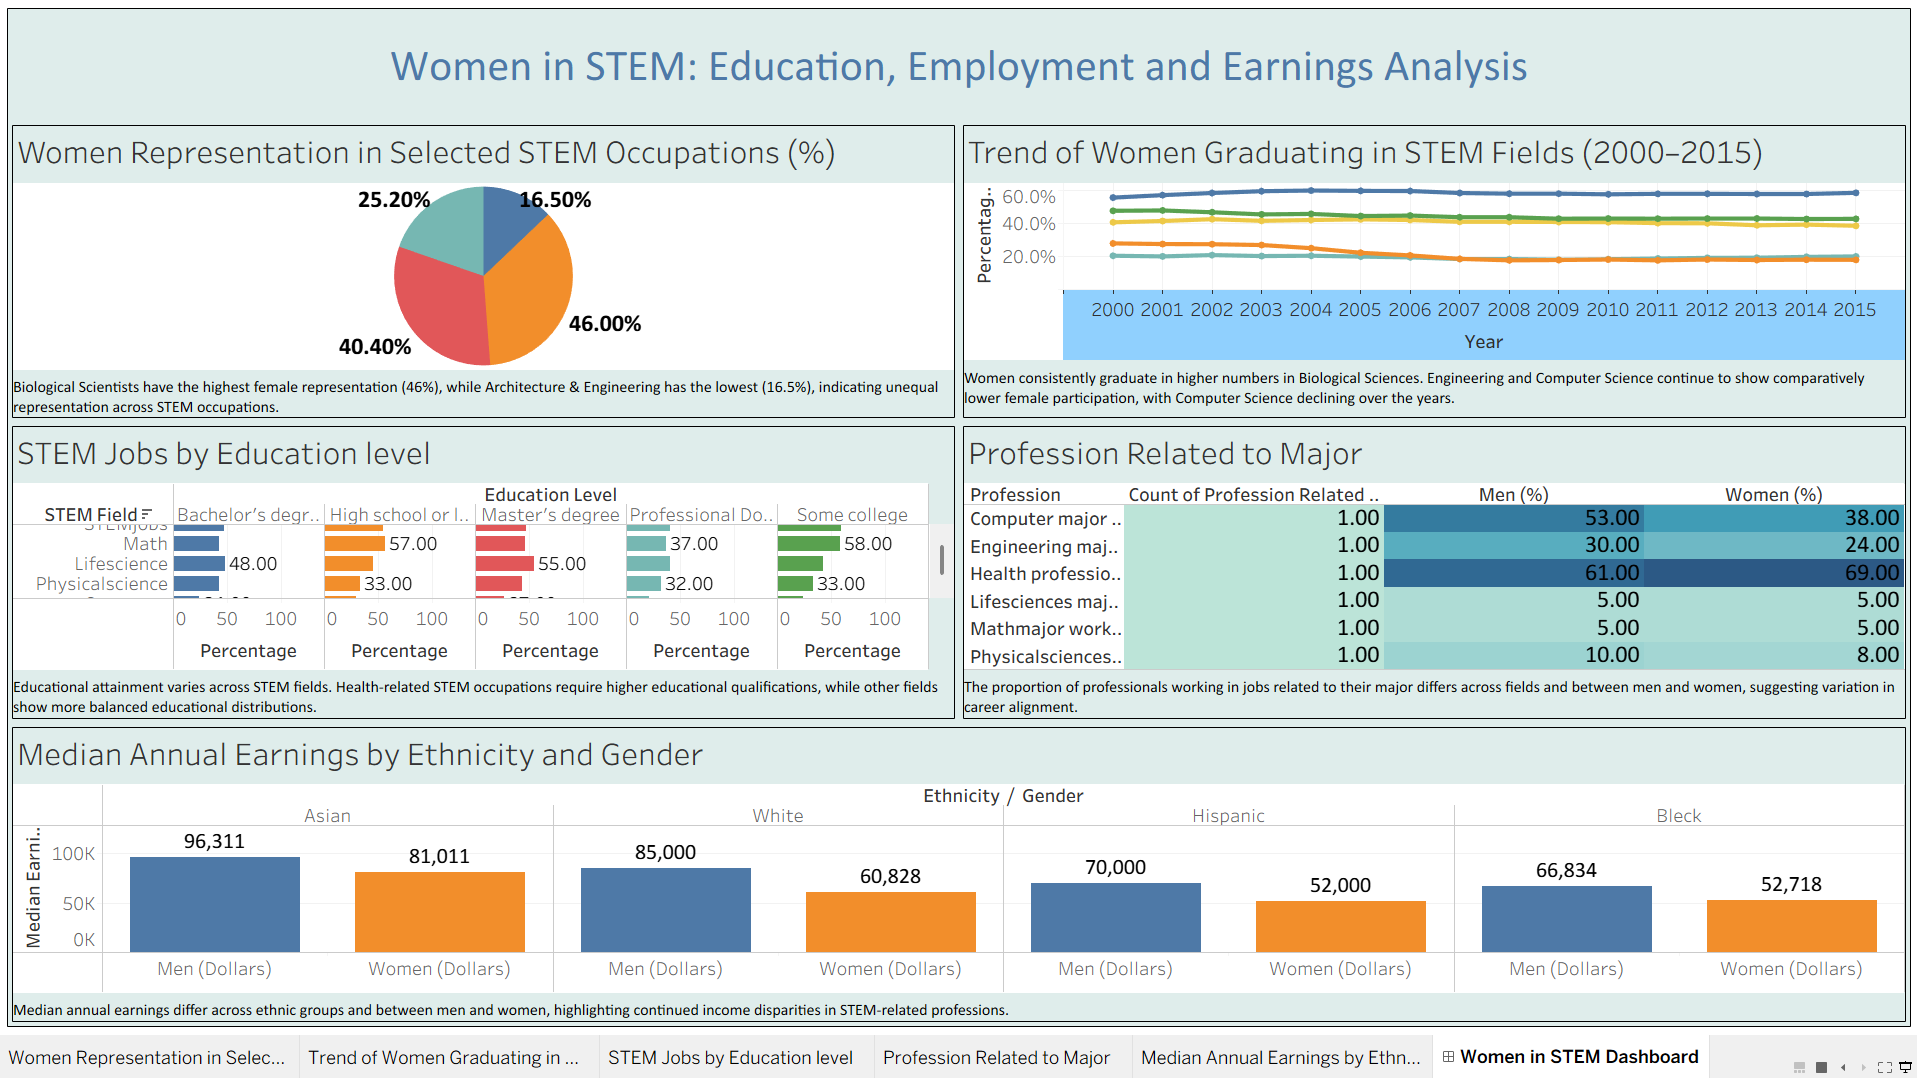

What the dashboard file says about the page in this screenshot:
{"tool":"tableau","page":{"name":"Women in STEM Dashboard","canvas":[1000,1000],"units":"permille","ordinal":0},"visuals":[{"type":"text","box":[5.6,11.2,988.8,107.6]},{"type":"worksheet","title":"Women Representation in Selected STEM Occupations (%)","mark":"Pie","box":[5.6,118.8,494.3,289.5]},{"type":"worksheet","title":"Trend of Women Graduating in STEM Fields (2000–2015)","mark":"Line","cols":["Year"],"box":[499.9,118.8,494.4,289.5]},{"type":"worksheet","title":"STEM Jobs by Education level","mark":"Bar","rows":["F1"],"cols":["Pivot Field Names","Pivot Field Values"],"box":[5.6,408.2,494.3,289.7]},{"type":"worksheet","title":"Profession Related to Major","mark":"Square","rows":["Profession"],"box":[499.9,408.2,494.4,289.7]},{"type":"worksheet","title":"Median Annual Earnings by Ethnicity and Gender","mark":"Bar","rows":["Pivot Field Values"],"cols":["Ethnicity","Pivot Field Names"],"box":[5.6,697.9,988.8,290.9]}]}

Visuals, with their boxes on the dashboard's canvas, which has no fixed pixel size, in thousandths of its width and height (x1, y1, x2, y2). These are canvas units, not pixel positions in the 1917x1078 screenshot, which may show the page scaled, cropped or inside an application window:
text: 6,11,994,119
"Women Representation in Selected STEM Occupations (%)" worksheet (Pie marks): 6,119,500,408
"Trend of Women Graduating in STEM Fields (2000–2015)" worksheet (Line marks): 500,119,994,408
"STEM Jobs by Education level" worksheet (Bar marks): 6,408,500,698
"Profession Related to Major" worksheet (Square marks): 500,408,994,698
"Median Annual Earnings by Ethnicity and Gender" worksheet (Bar marks): 6,698,994,989
